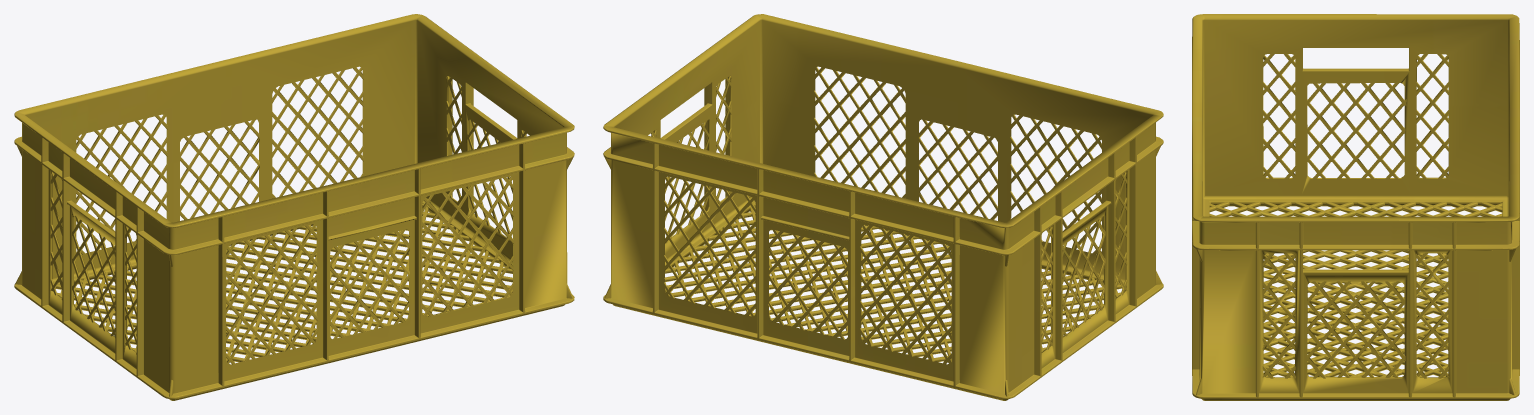
Rendered from crate_yellow.glb.
The picture shows the model from 3 angles, left to right: view 1: azimuth 30°, elevation 25°; view 2: azimuth 150°, elevation 25°; view 3: azimuth 270°, elevation 25°; orthographic projection. The views are drawn at different scales.
Parts seen in each view (by area): view 1: crate_yellow_a01; view 2: crate_yellow_a01; view 3: crate_yellow_a01.
Part boxes in pixels (bbox=[...]): crate_yellow_a01: bbox=[14, 14, 574, 400]; crate_yellow_a01: bbox=[603, 14, 1163, 400]; crate_yellow_a01: bbox=[1192, 14, 1519, 400].
Bounding box in the file's own units: 0.6051 × 0.2532 × 0.4051.
Materials: 1 (1 with a texture image).
